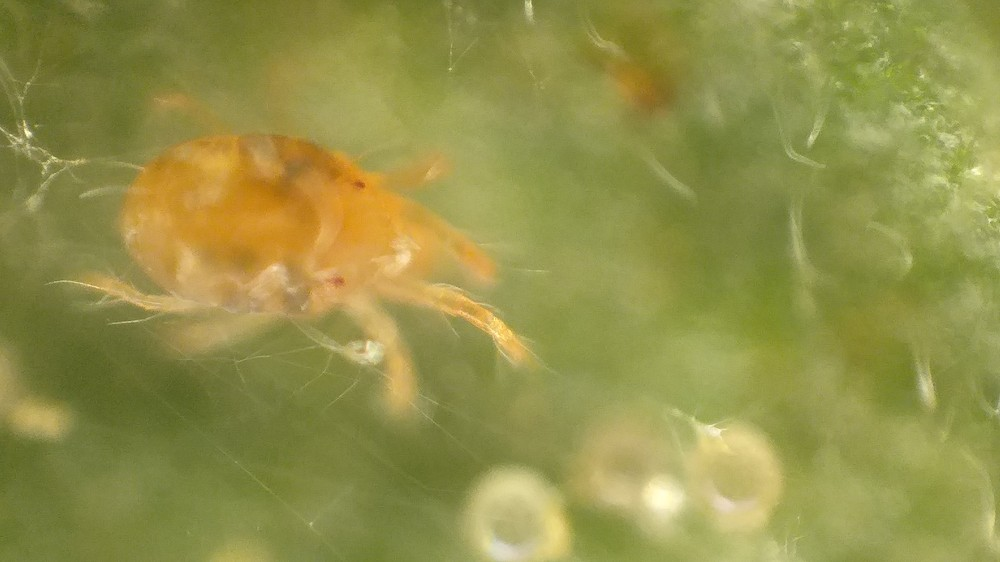Aracnido Rojo: (70, 74, 615, 425)
